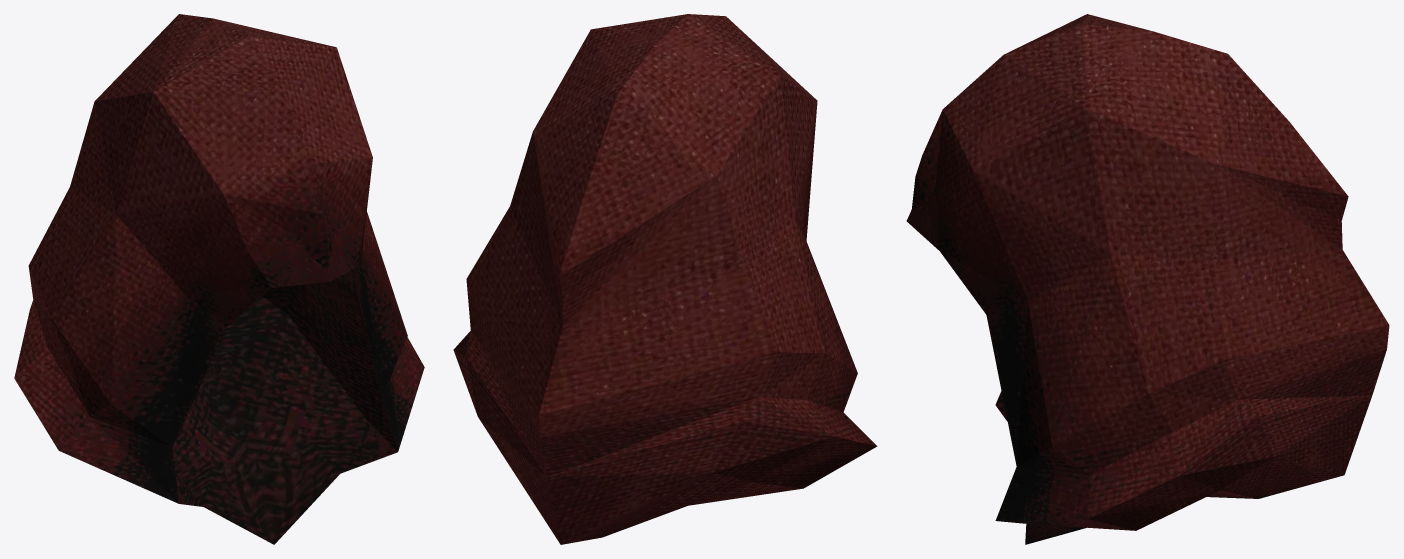
The model's file is HUM_HELM_2JCZ.glb.
3 views of the same model, side by side, from view 1: azimuth 30°, elevation 25°; view 2: azimuth 150°, elevation 25°; view 3: azimuth 270°, elevation 25° (orthographic). The views are drawn at different scales.
Parts seen in each view (by area): view 1: HUM_HELM_2JCZ; view 2: HUM_HELM_2JCZ; view 3: HUM_HELM_2JCZ.
Part boxes in pixels (x1,y1,x2,y2): HUM_HELM_2JCZ: (14, 14, 424, 544); HUM_HELM_2JCZ: (453, 14, 877, 544); HUM_HELM_2JCZ: (906, 14, 1389, 544).
Size of the model in its own units: 0.3241 by 0.4106 by 0.345.
1 material, 1 textured.
